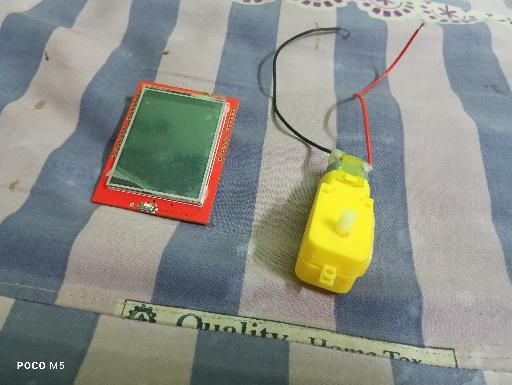Display: (88, 79, 241, 227)
Motor: (292, 147, 376, 295)
